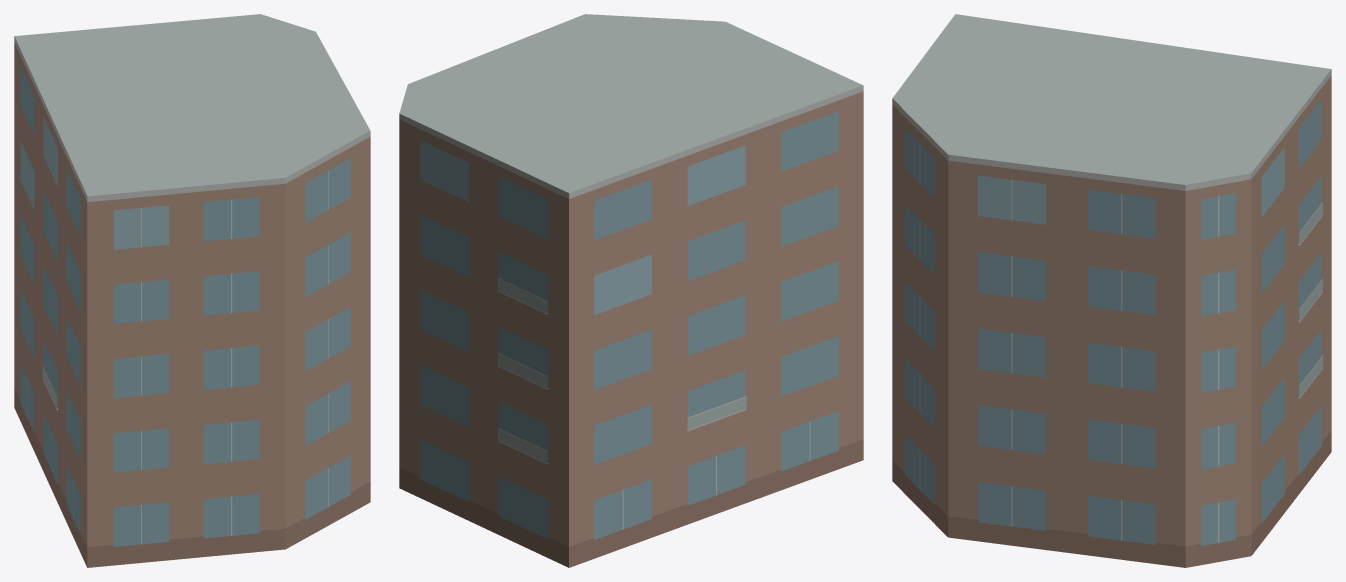
File: survey-upis-32604015.glb
The picture shows the model from 3 angles, left to right: view 1: azimuth 30°, elevation 25°; view 2: azimuth 150°, elevation 25°; view 3: azimuth 270°, elevation 25°; orthographic projection. The views are drawn at different scales.
Visible parts, largest first — view 1: survey-upis-32604015.tmp; view 2: survey-upis-32604015.tmp; view 3: survey-upis-32604015.tmp.
Part boxes in pixels (x1,y1,x2,y2): survey-upis-32604015.tmp: (14,14,370,567); survey-upis-32604015.tmp: (399,14,863,567); survey-upis-32604015.tmp: (892,14,1331,567).
Size of the model in its own units: 15.06 by 15.7 by 16.34.
